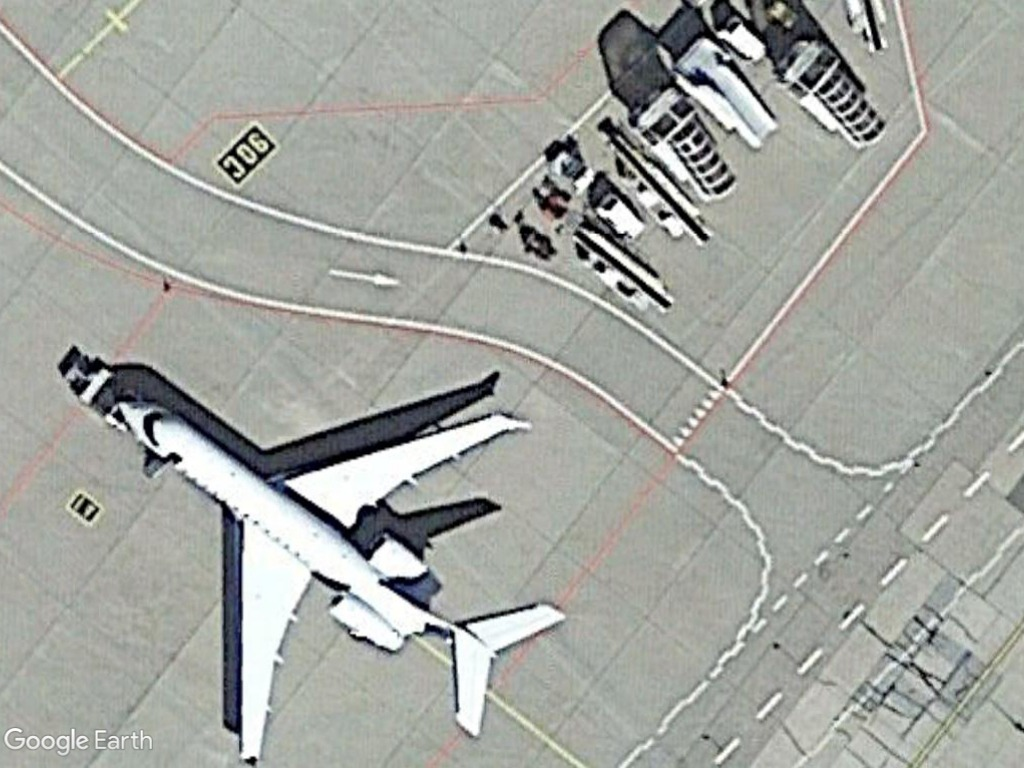chartered: (108, 395, 572, 764)
stairtruck: (667, 30, 782, 151)
